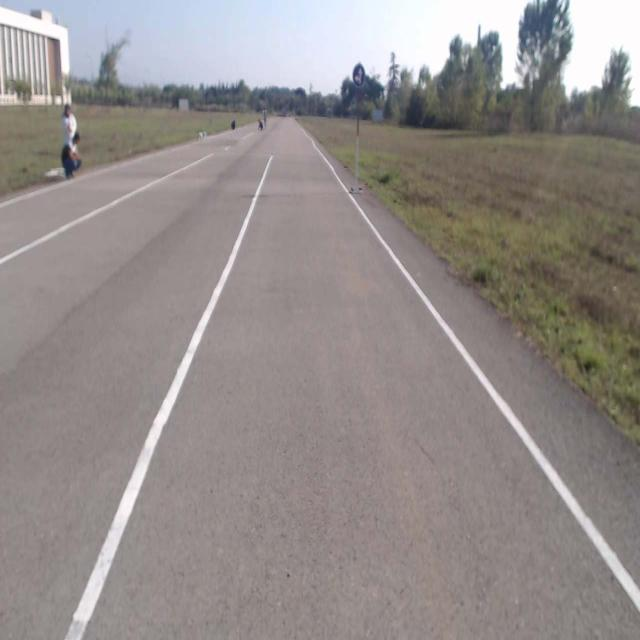ilerisol: (353, 63, 365, 86)
